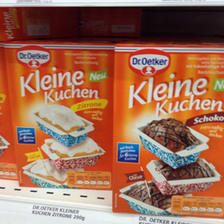cake: (111, 40, 224, 214), (5, 39, 113, 198)
